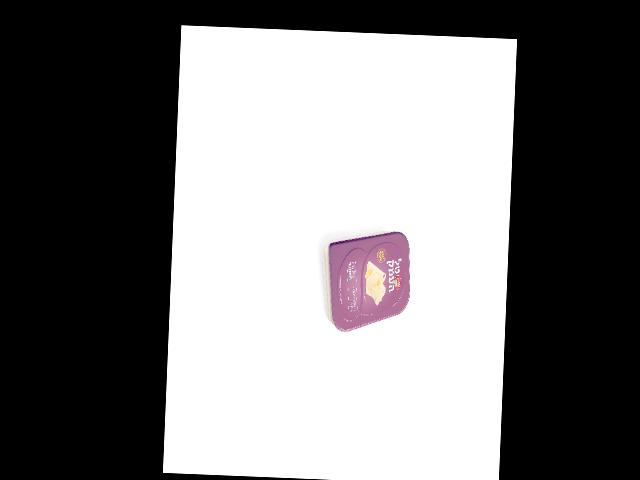cheese: (319, 228, 413, 334)
